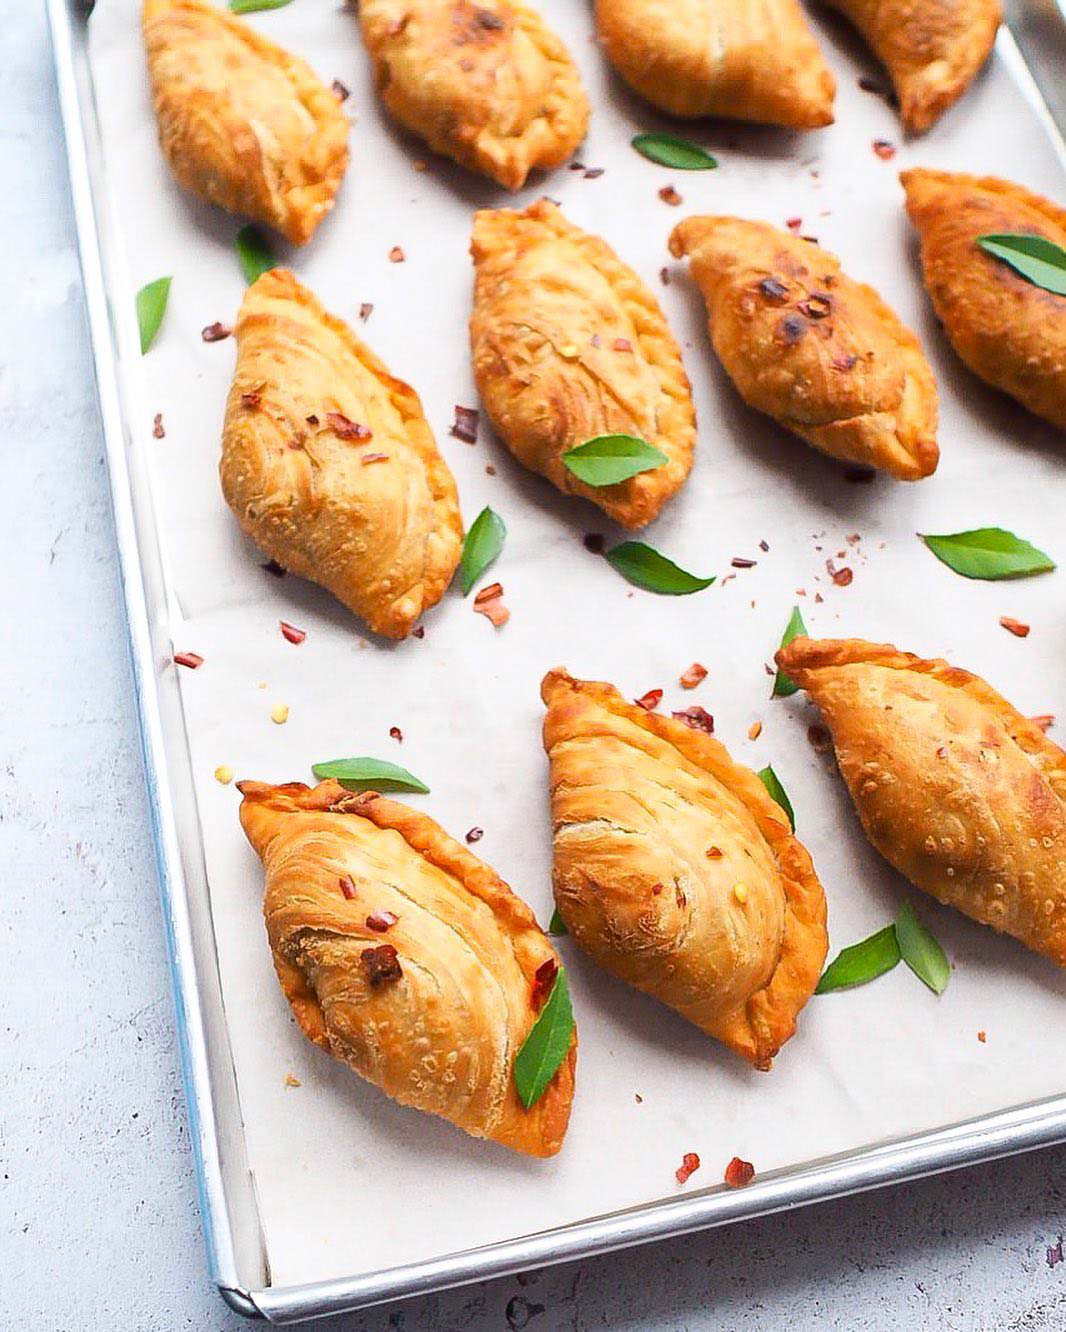Curry Puff: (197, 771, 585, 1154), (545, 650, 829, 1076), (766, 594, 1065, 971), (179, 275, 463, 652), (647, 148, 949, 496), (432, 211, 719, 536), (893, 153, 1064, 437), (139, 8, 345, 222), (371, 0, 582, 194), (621, 0, 811, 116)
